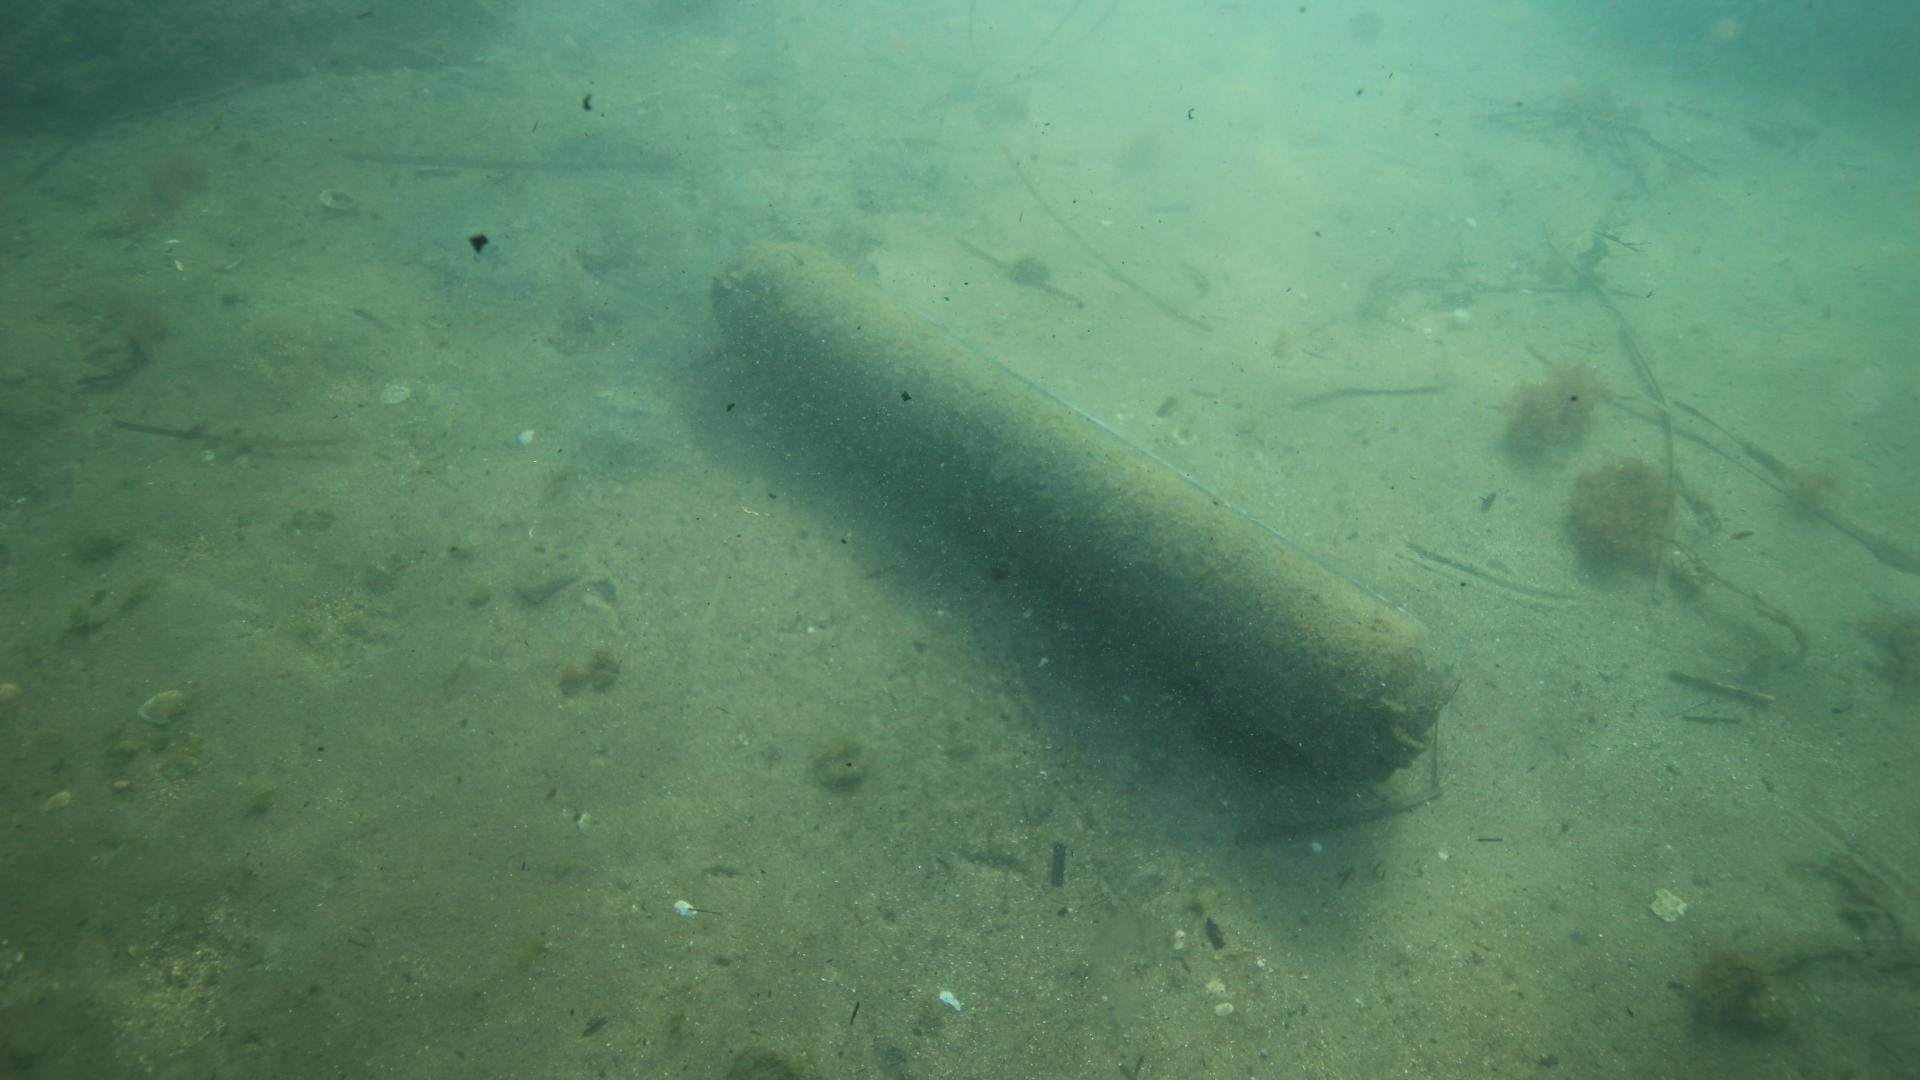eel fish trap: (709, 233, 1457, 779)
